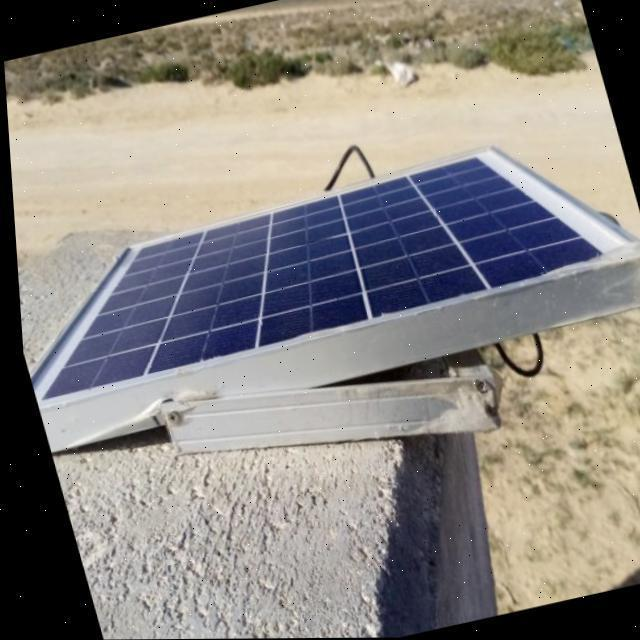Normal Solar Panel: (6, 120, 640, 405)
